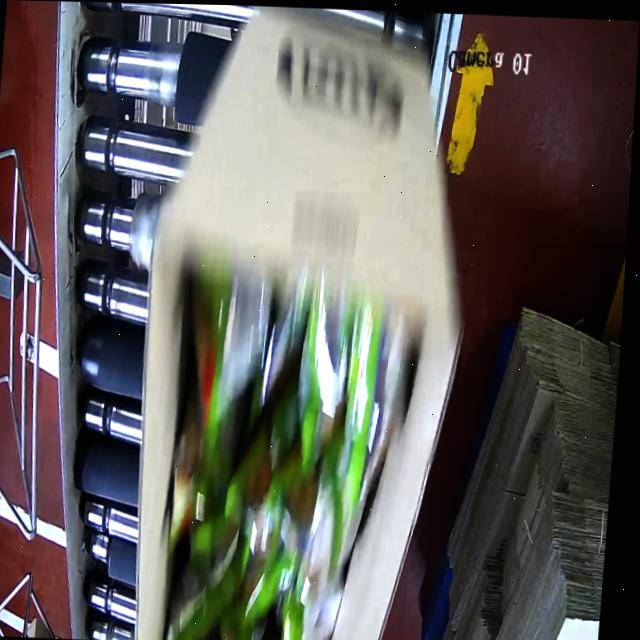YOGURT_HERB: (150, 263, 387, 640)
